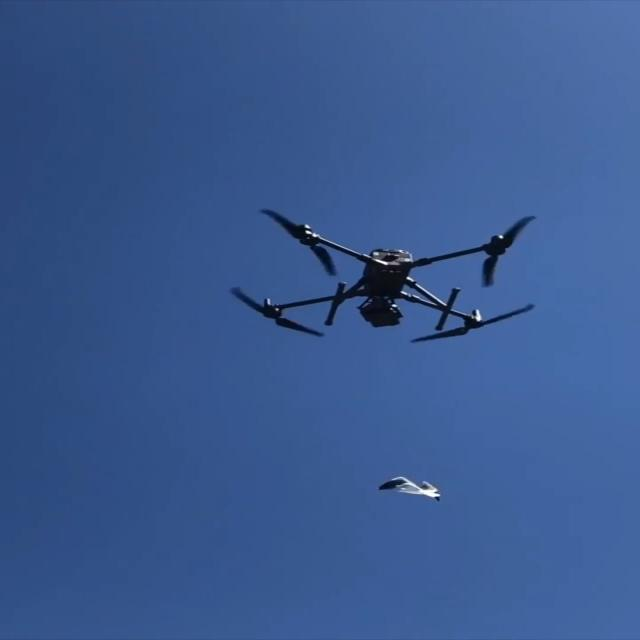bird: (377, 476, 441, 502)
drone: (229, 208, 537, 342)
